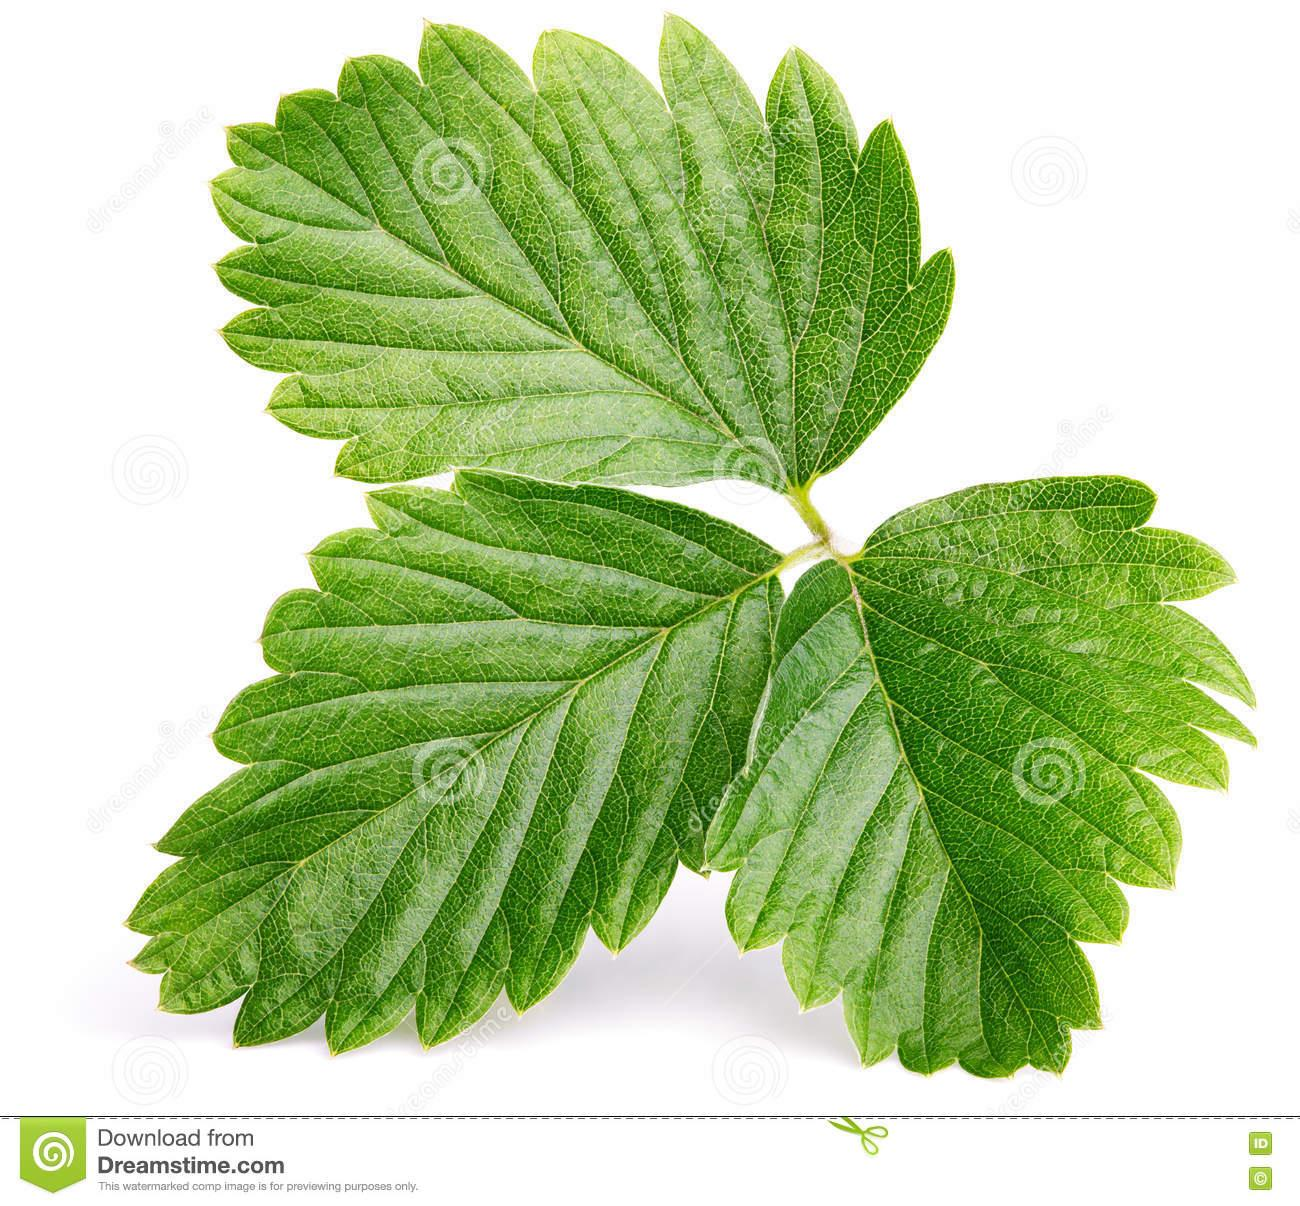Strawberry leaf: (109, 456, 816, 1073), (185, 5, 965, 490), (722, 489, 1261, 1087)
